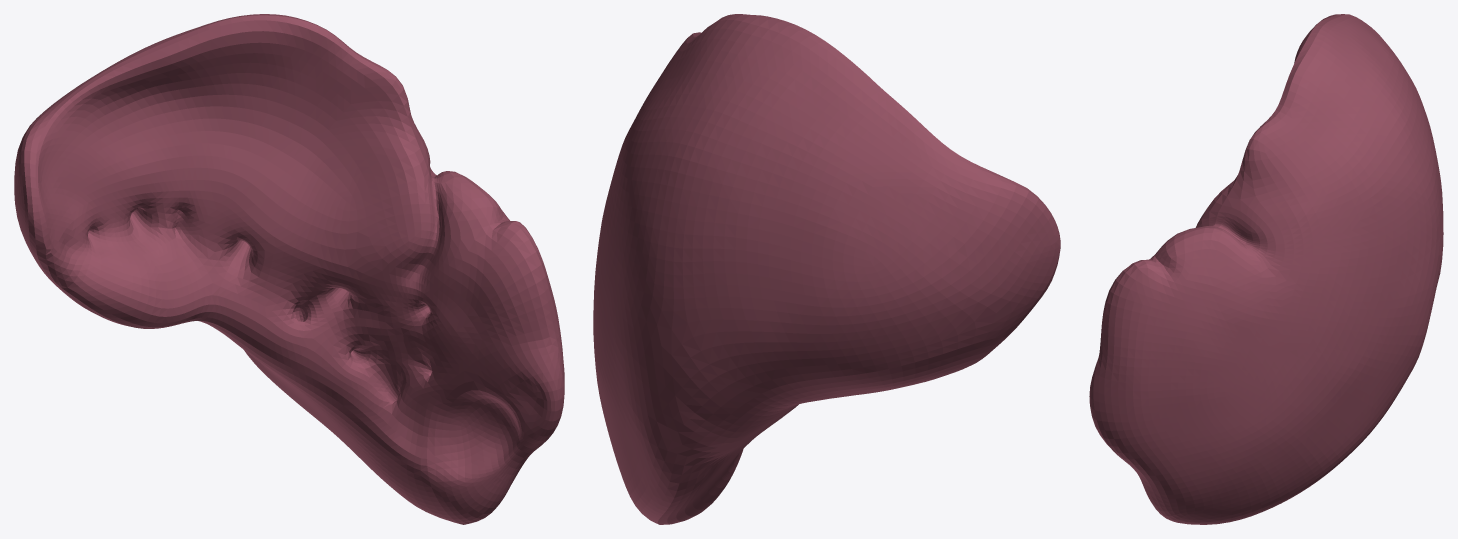
Rendered from spleen.glb.
The picture shows the model from 3 angles, left to right: view 1: azimuth 30°, elevation 25°; view 2: azimuth 150°, elevation 25°; view 3: azimuth 270°, elevation 25°; orthographic projection. The views are drawn at different scales.
Parts seen in each view (by area): view 1: spleen; view 2: spleen; view 3: spleen.
Part boxes in pixels (x1,y1,x2,y2): spleen: [14, 14, 564, 524]; spleen: [593, 14, 1060, 524]; spleen: [1089, 14, 1443, 524].
Size of the model in its own units: 0.0685 by 0.0736 by 0.055.
